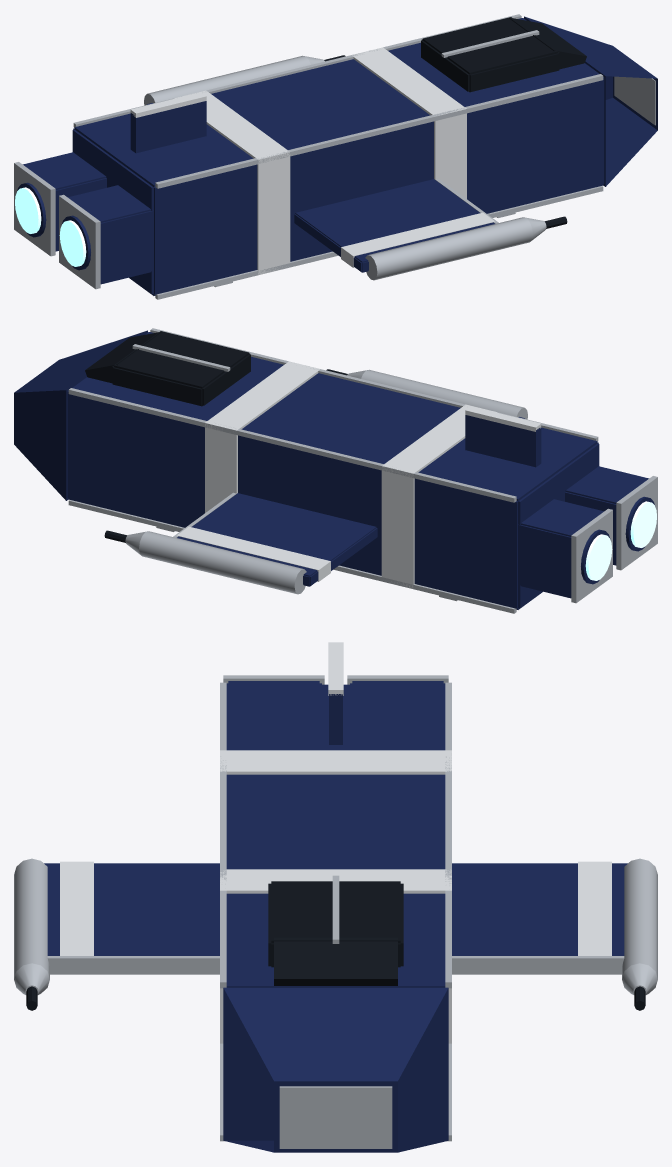
Rendered from patrol.glb.
The picture shows the model from 3 angles, top to bottom: view 1: azimuth 30°, elevation 25°; view 2: azimuth 150°, elevation 25°; view 3: azimuth 270°, elevation 25°; orthographic projection. The views are drawn at different scales.
Visible parts, largest first — view 1: patrol_concord_navy, patrol_silver_trim, patrol_hull_white, patrol_dark_glass, patrol_drive_glow; view 2: patrol_concord_navy, patrol_silver_trim, patrol_hull_white, patrol_dark_glass, patrol_drive_glow; view 3: patrol_concord_navy, patrol_silver_trim, patrol_hull_white, patrol_dark_glass.
Boxes of the visible parts, x1,y1,x2,y2 form: patrol_concord_navy: (16, 16, 657, 295); patrol_silver_trim: (14, 14, 655, 299); patrol_hull_white: (130, 47, 494, 275); patrol_dark_glass: (324, 17, 586, 228); patrol_drive_glow: (15, 187, 86, 266); patrol_concord_navy: (14, 330, 655, 609); patrol_silver_trim: (68, 328, 657, 613); patrol_hull_white: (177, 361, 541, 588); patrol_dark_glass: (85, 331, 347, 542); patrol_drive_glow: (585, 501, 656, 580); patrol_concord_navy: (44, 681, 627, 1152); patrol_silver_trim: (14, 675, 657, 1148); patrol_hull_white: (60, 642, 611, 1043); patrol_dark_glass: (26, 881, 645, 1010).
Size of the model in its own units: 16.64 by 4.48 by 11.44.
